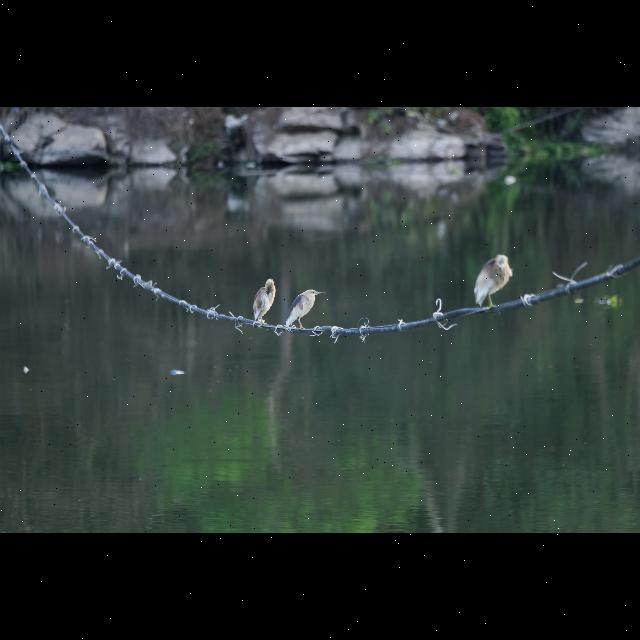heron: (471, 250, 517, 320), (284, 283, 324, 343), (246, 276, 276, 326)
